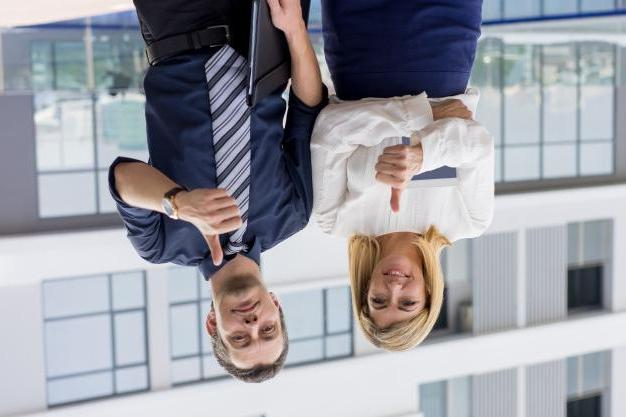thumbsdown: (200, 189, 243, 266), (374, 145, 411, 213)
